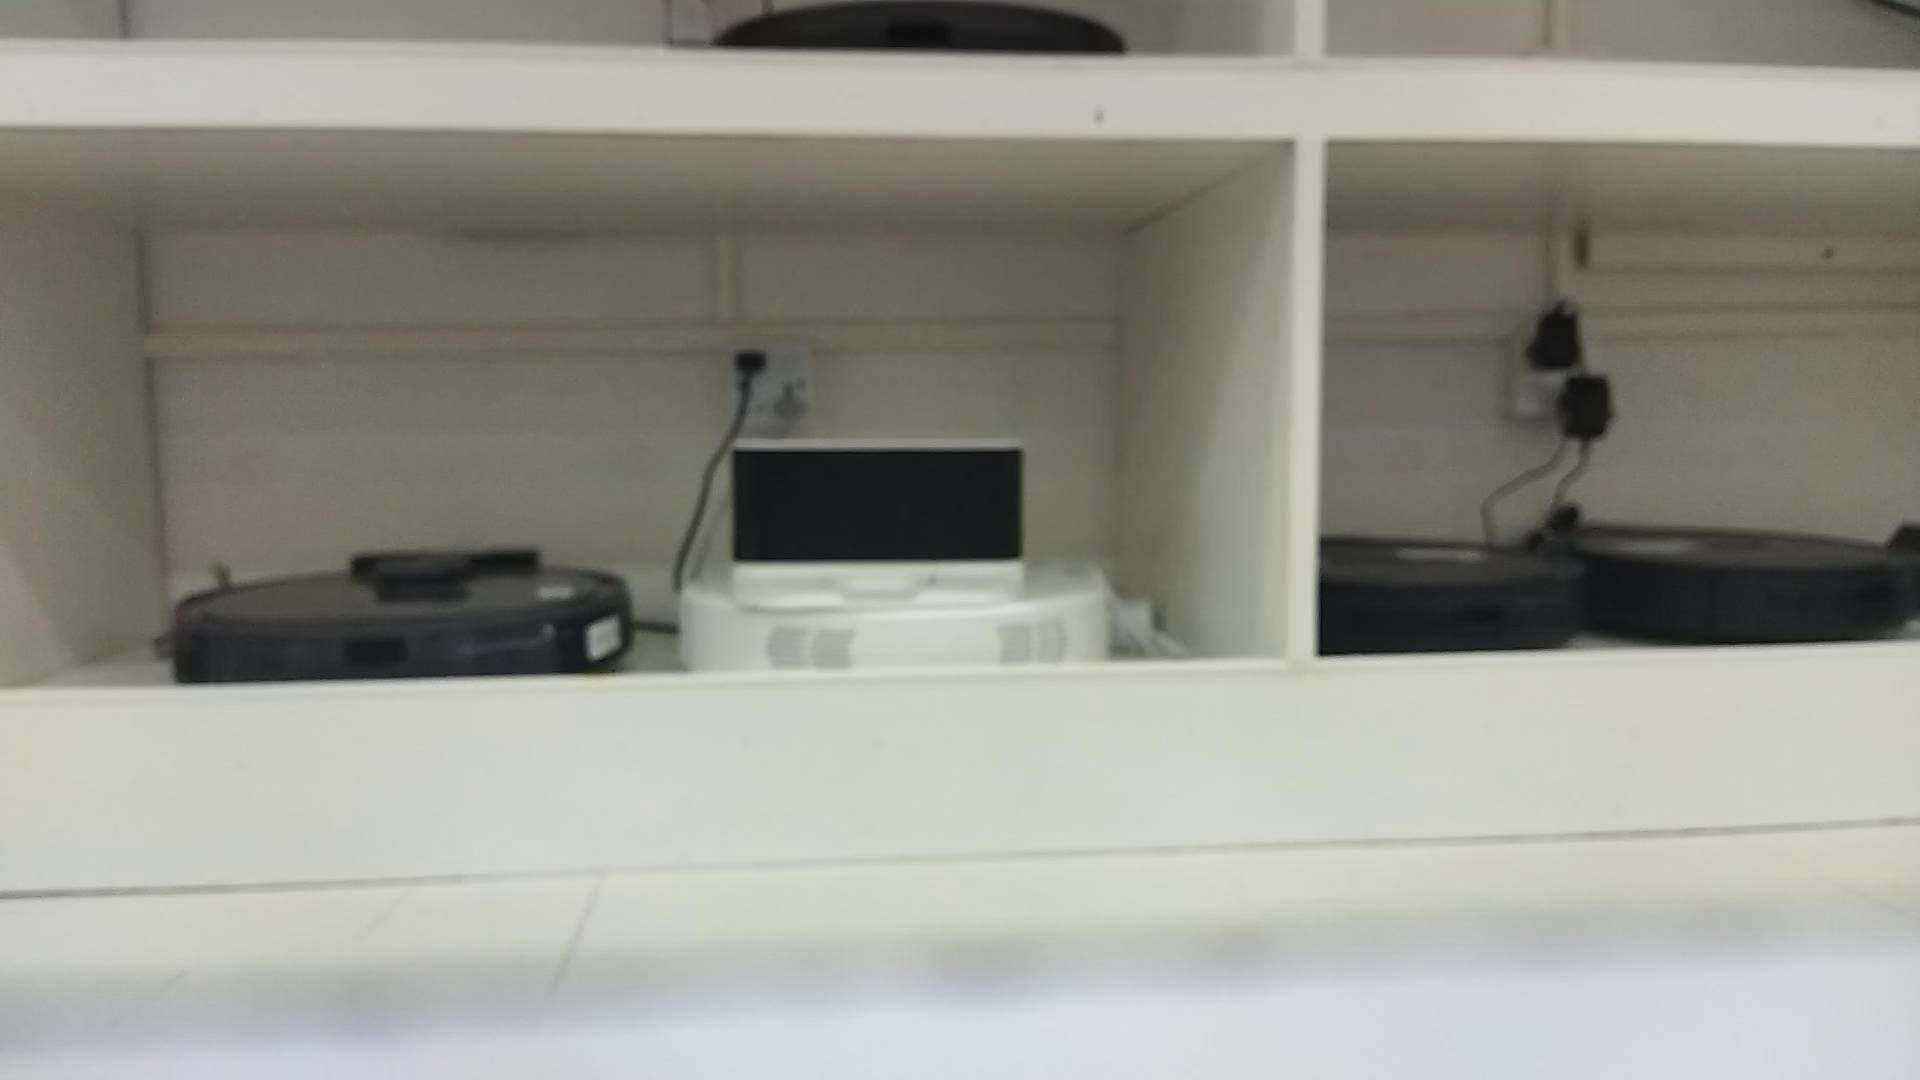recharge seat: (729, 434, 1029, 615)
